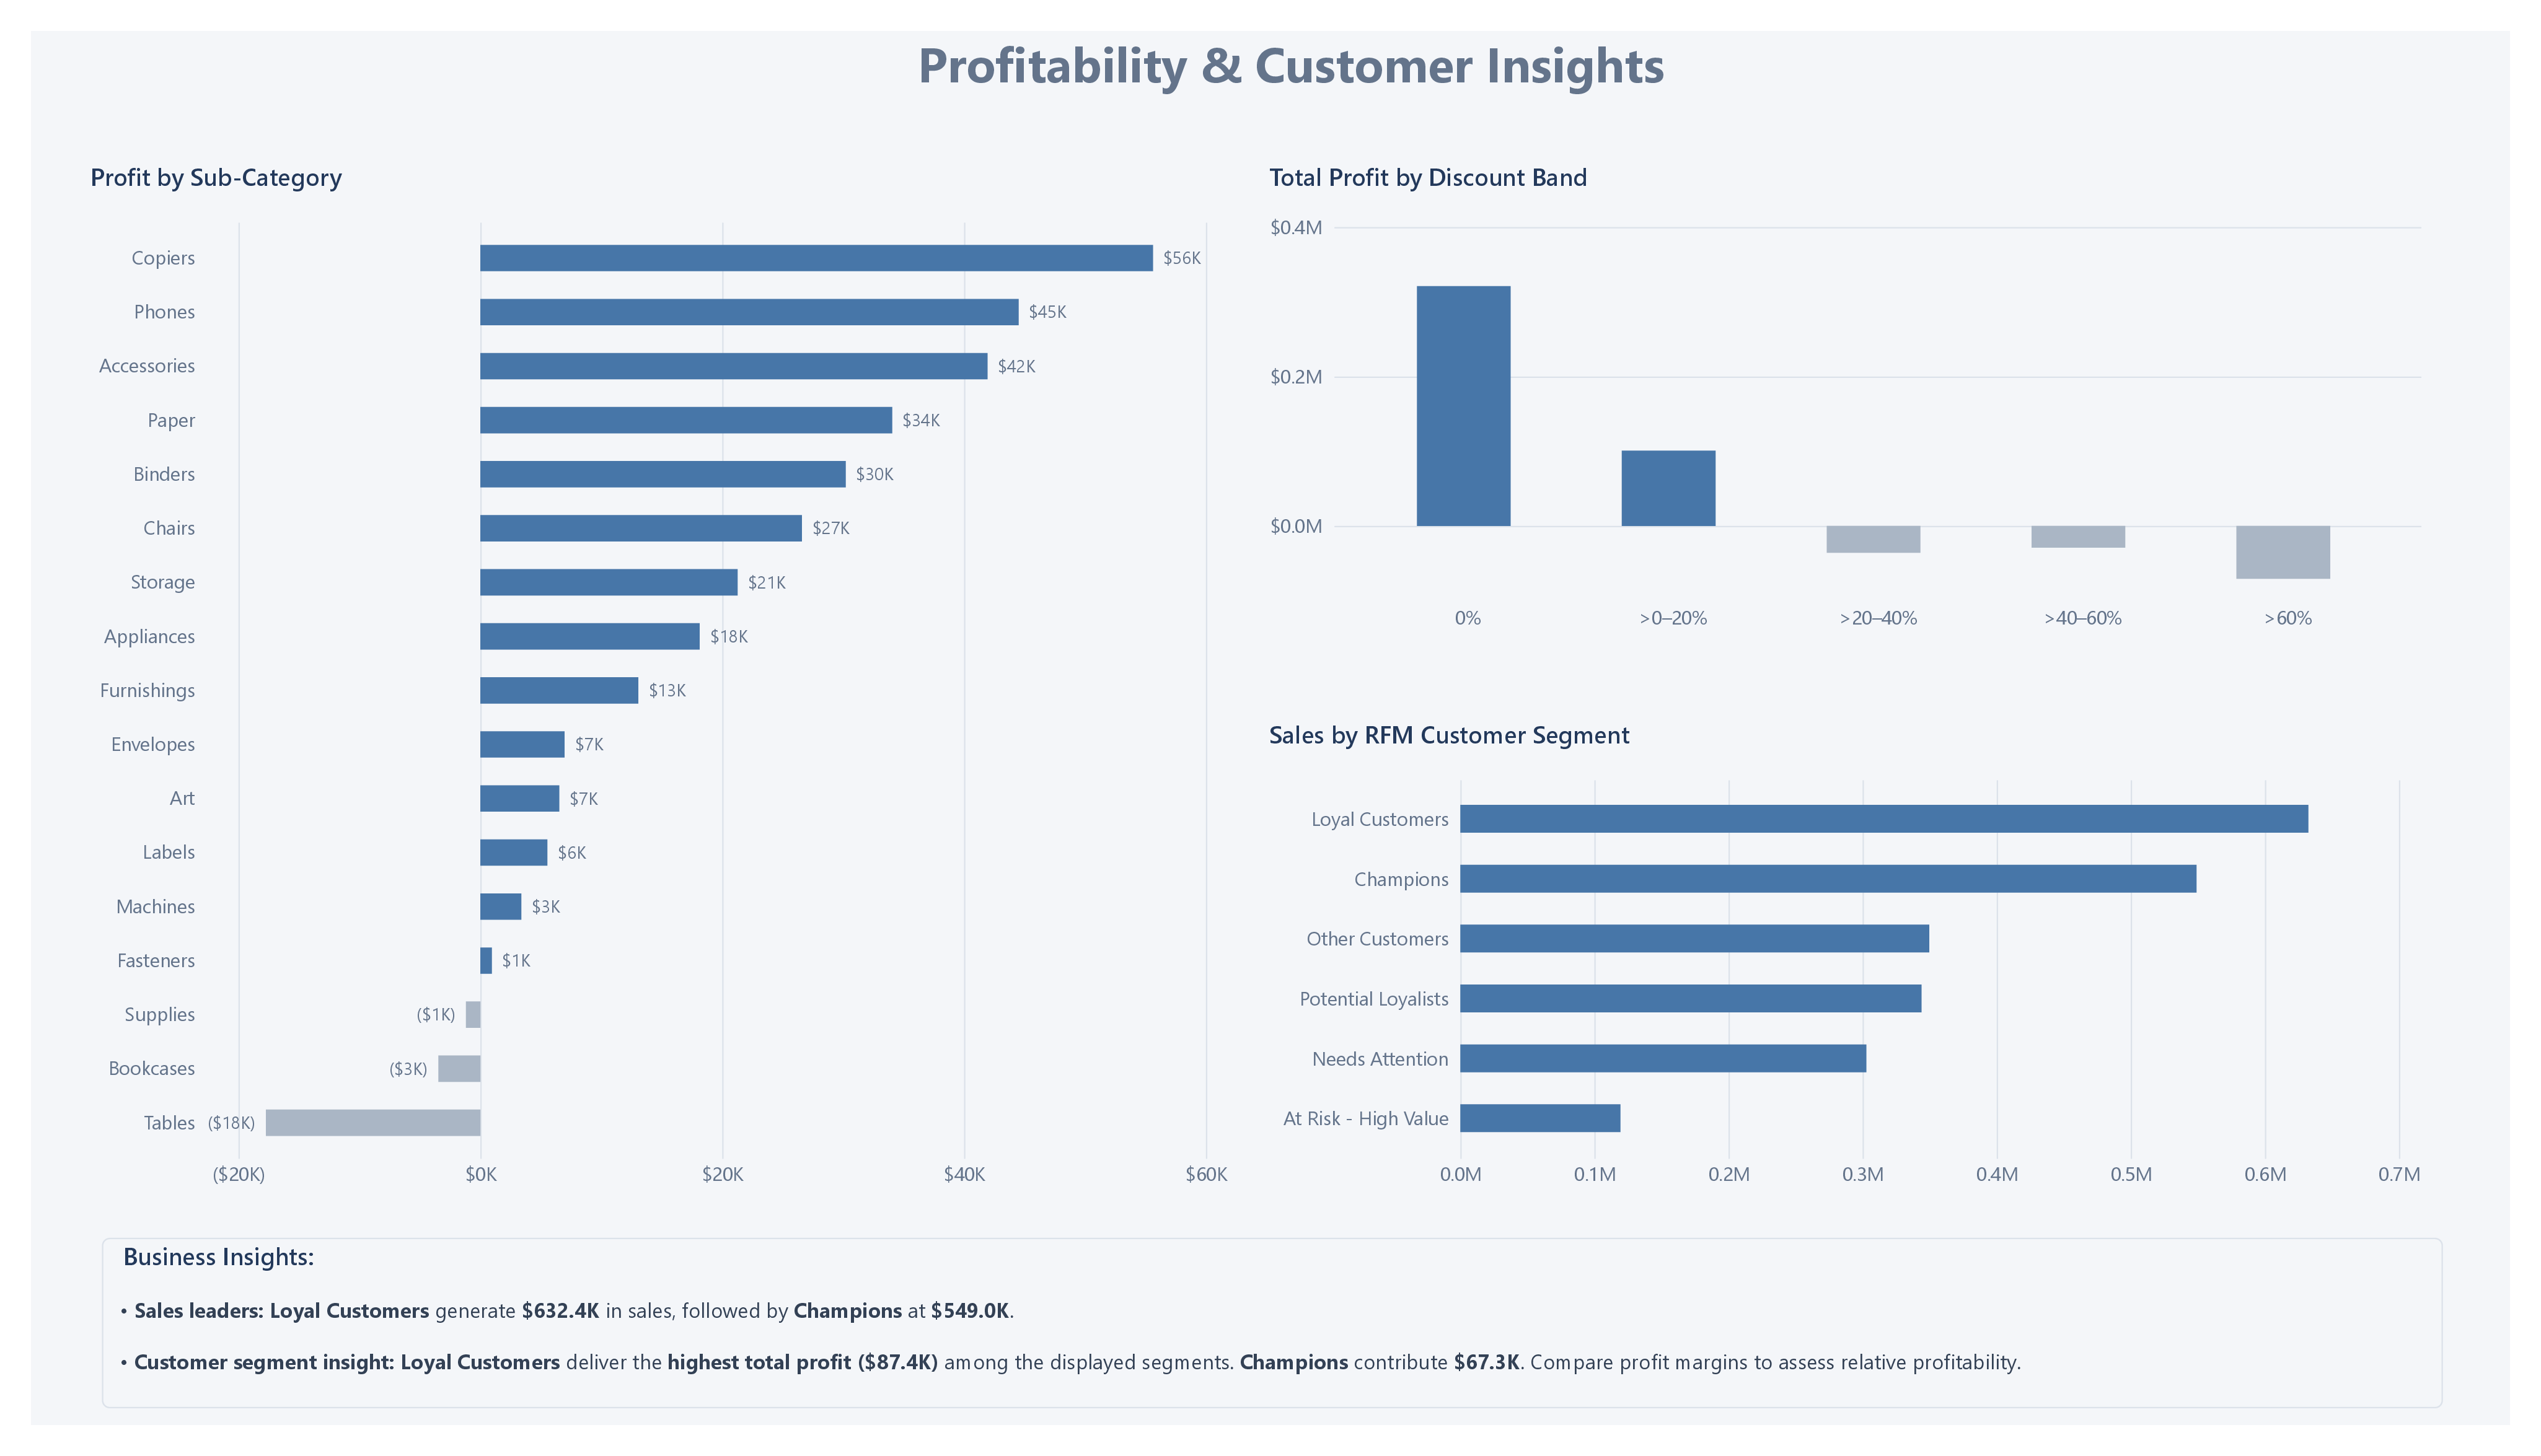

The page's visual inventory and layout, read from the dashboard file:
{"tool":"powerbi","page":{"name":"Profitability & Customer Insights","canvas":[1920,1080],"ordinal":1},"visuals":[{"type":"clusteredBarChart","title":"Profit by Sub-Category","fields":{"Category":["public superstore_clean.sub_category"],"Y":["public superstore_clean.Total Profit"]},"box":[30.1,85.9,913.1,831.5],"z":0},{"type":"clusteredColumnChart","title":"Profitability by Discount Band","fields":{"Category":["public superstore_clean.Discount Band"],"Y":["public superstore_clean.Total Profit"]},"box":[943.2,85.9,923.9,399.6],"z":1000},{"type":"clusteredBarChart","title":"Sales by RFM Customer Segment","fields":{"Category":["public customer_rfm_summary.customer_segment"],"Y":["Sum(public customer_rfm_summary.total_sales)"]},"box":[943.2,517.8,923.9,399.6],"z":2000},{"type":"textbox","box":[31,0,1889.6,52.5],"z":3000},{"type":"textbox","box":[54.9,935.3,1813.3,131.2],"z":3001}]}

Visuals, with their boxes on the page's 1920x1080 design canvas (x1, y1, x2, y2). These are canvas units, not pixel positions in the 2541x1456 screenshot, which may show the page scaled, cropped or inside an application window:
"Profit by Sub-Category" clusteredBarChart: 30/86/943/917
"Profitability by Discount Band" clusteredColumnChart: 943/86/1867/486
"Sales by RFM Customer Segment" clusteredBarChart: 943/518/1867/917
textbox: 31/0/1921/52
textbox: 55/935/1868/1066
